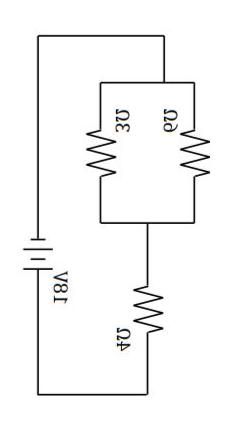Battery: (19, 215, 64, 287)
